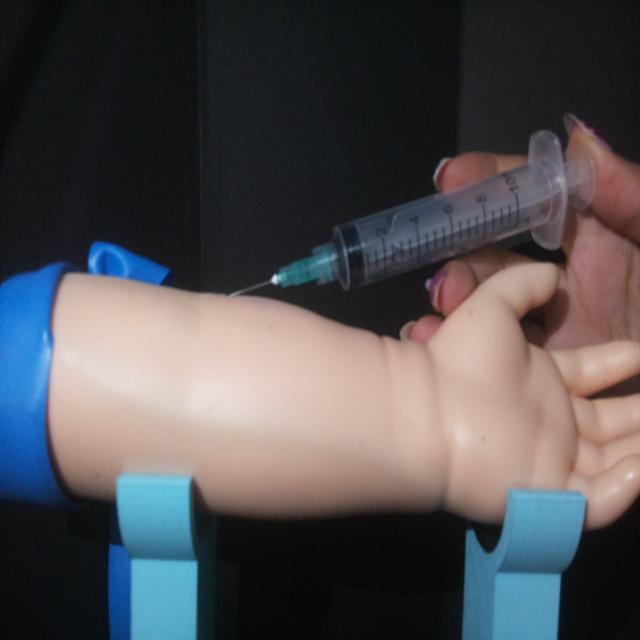23deg: (224, 122, 600, 304)
